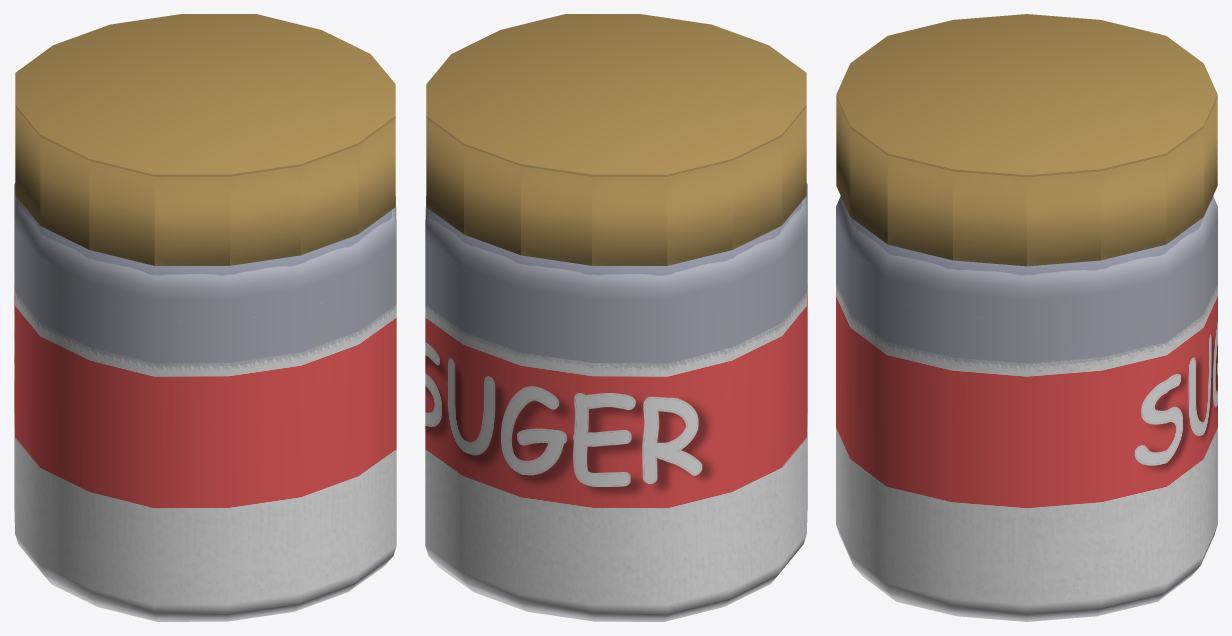
The model's file is satou1.fbx.
3 renders of one model, left to right at view 1: azimuth 30°, elevation 25°; view 2: azimuth 150°, elevation 25°; view 3: azimuth 270°, elevation 25°, orthographic.
Visible parts, largest first — view 1: pCube1; view 2: pCube1; view 3: pCube1.
Boxes of the visible parts, x1,y1,x2,y2 form: pCube1: [14, 14, 396, 621]; pCube1: [425, 14, 807, 621]; pCube1: [836, 14, 1217, 621].
Size of the model in its own units: 10.73 by 14.07 by 10.73.
1 material, 1 textured.
